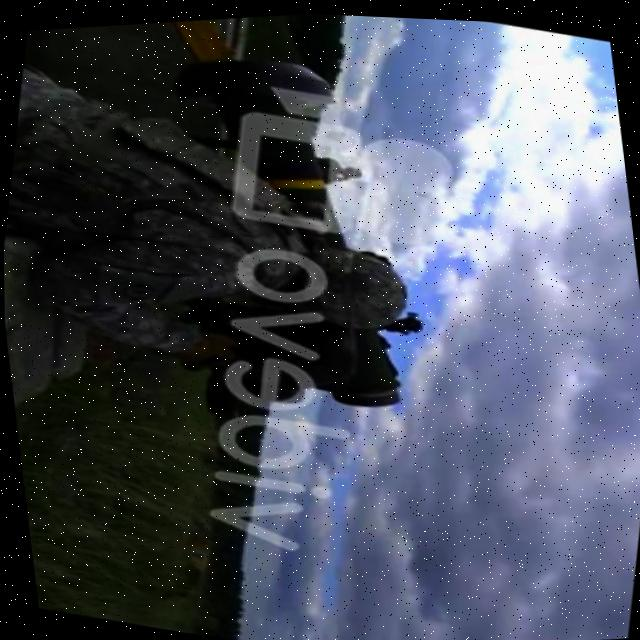rocket: (110, 17, 471, 430)
